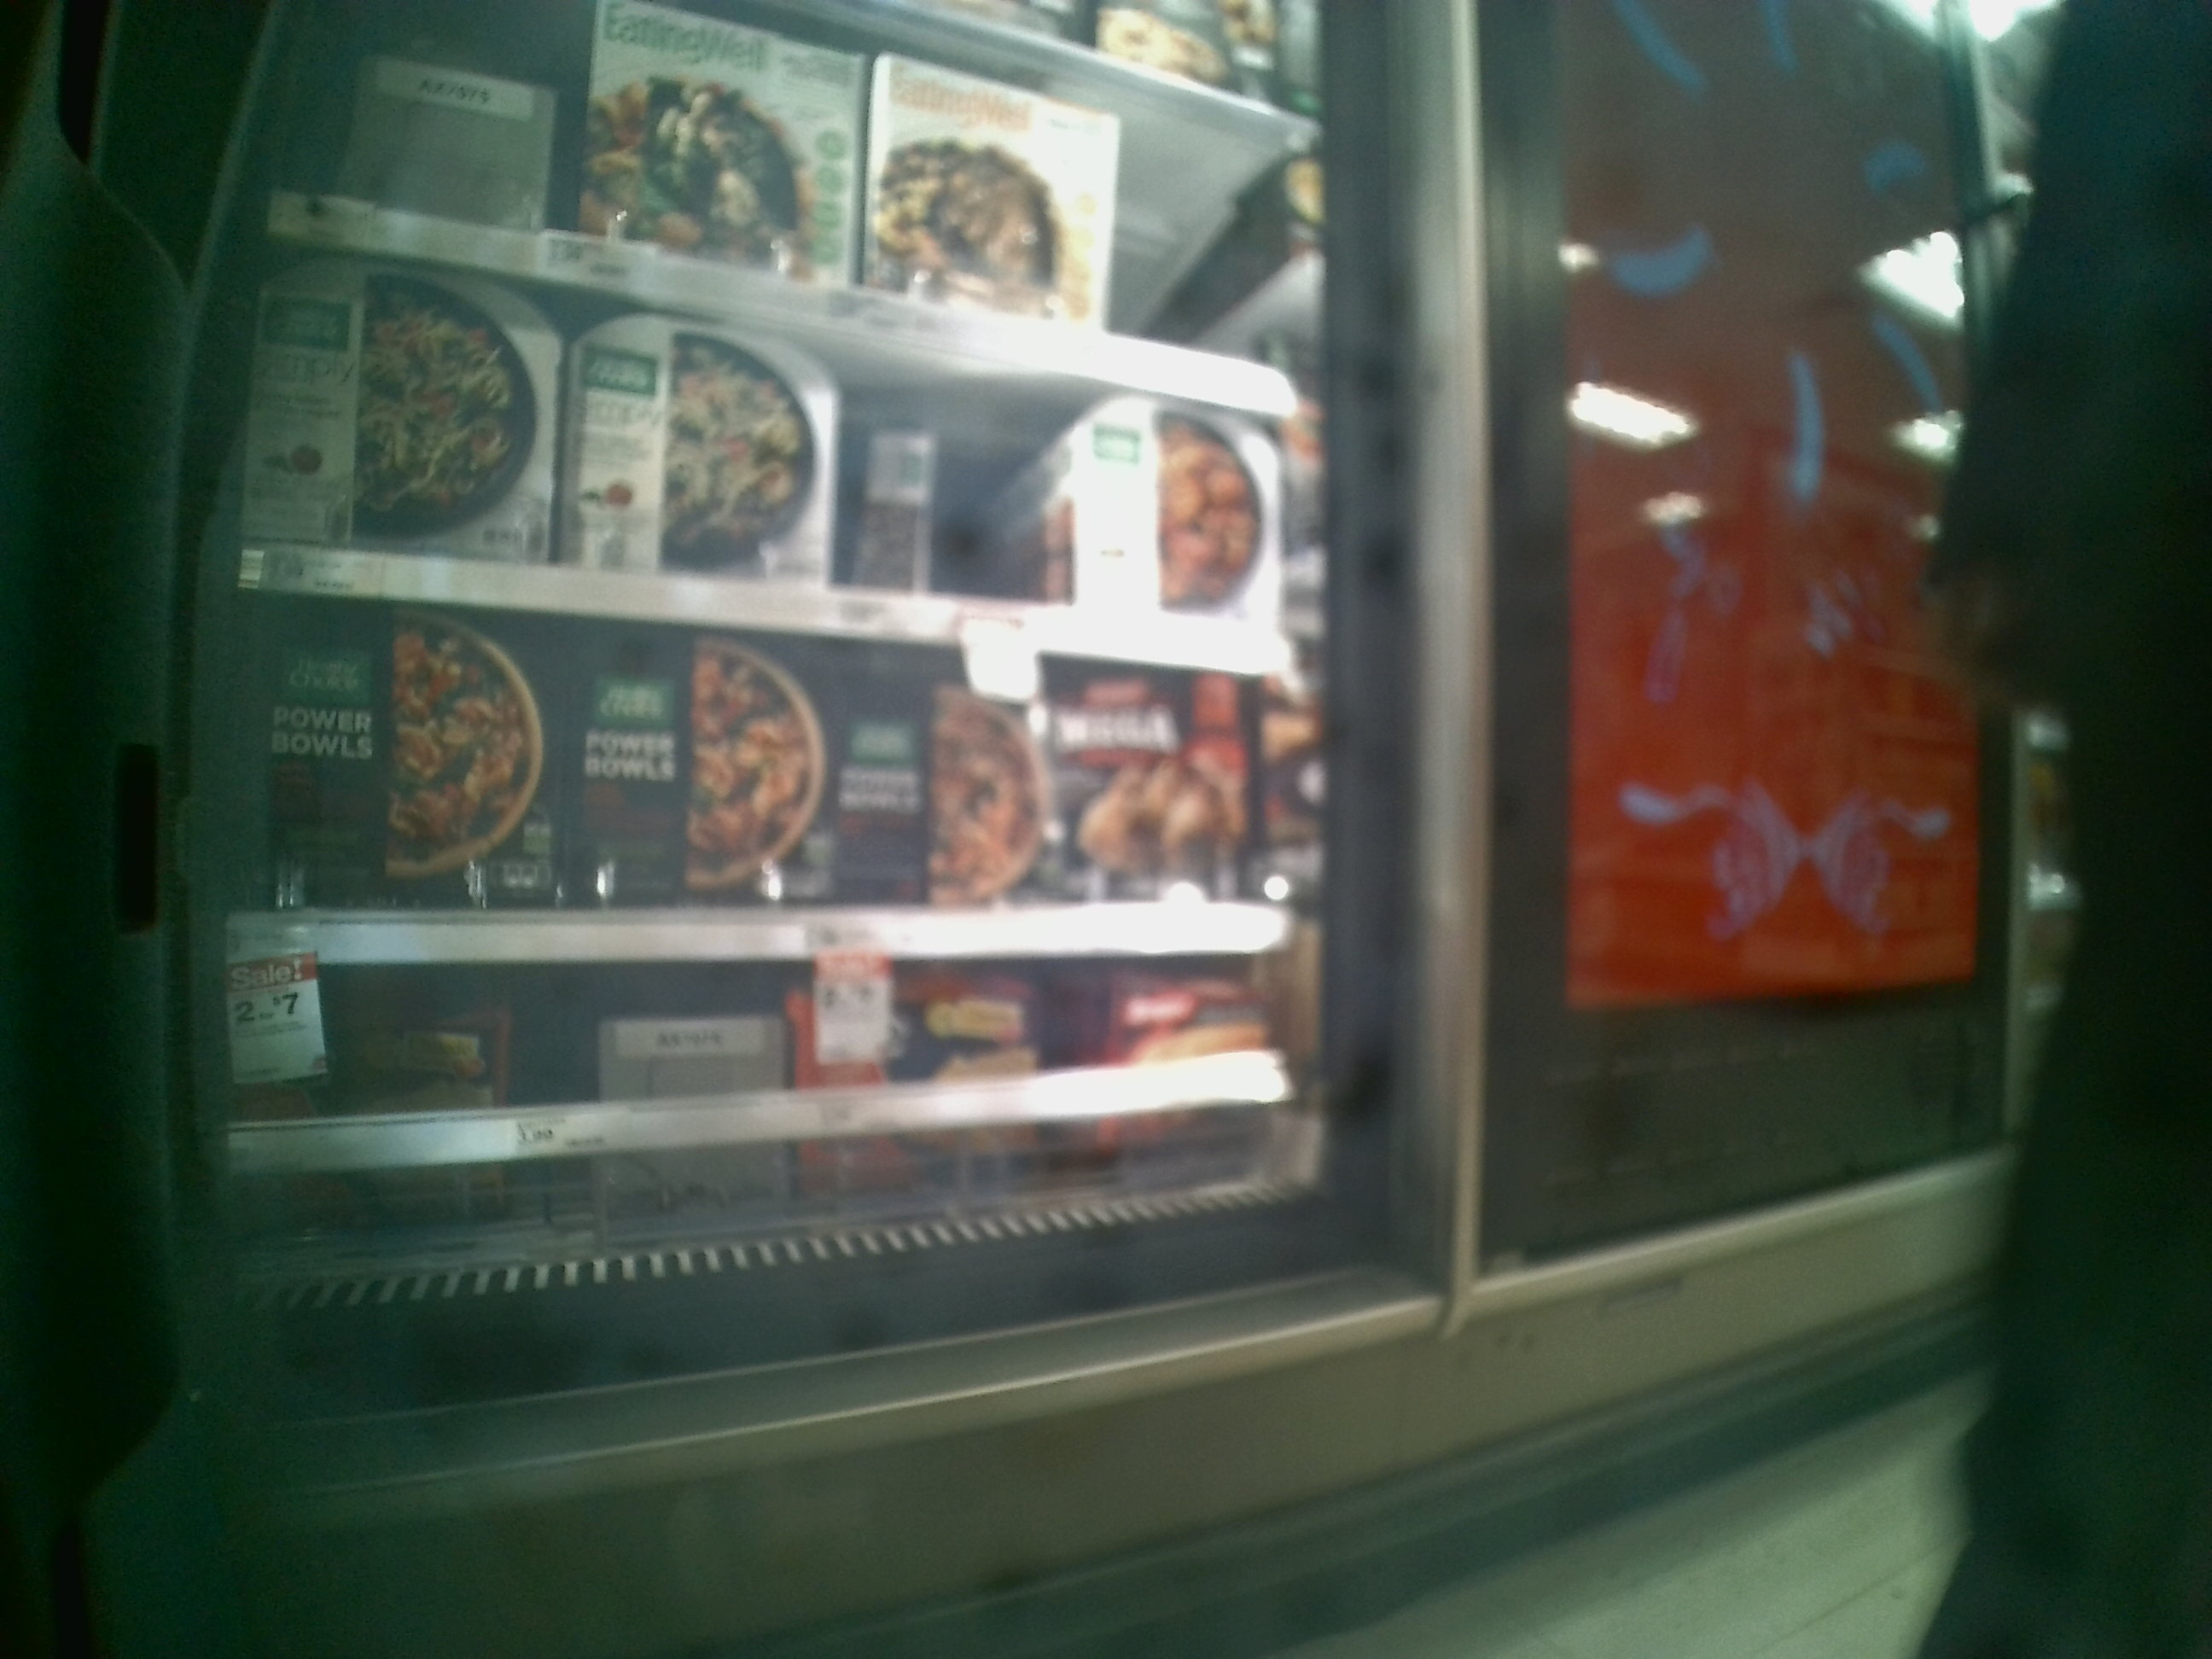shelf: (246, 228, 1303, 678), (235, 584, 1313, 953), (237, 969, 1303, 1244)
